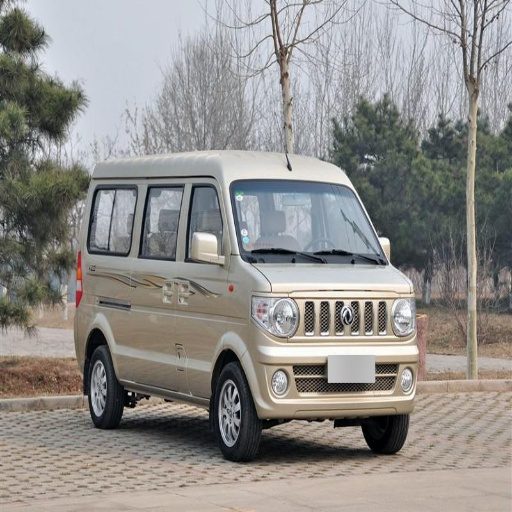front_bumper: (249, 297, 421, 415)
front_right_door: (173, 178, 231, 314), (159, 322, 198, 390)
front_right_light: (252, 295, 300, 340)
hood: (247, 264, 412, 297)
trunk: (189, 310, 227, 365)
